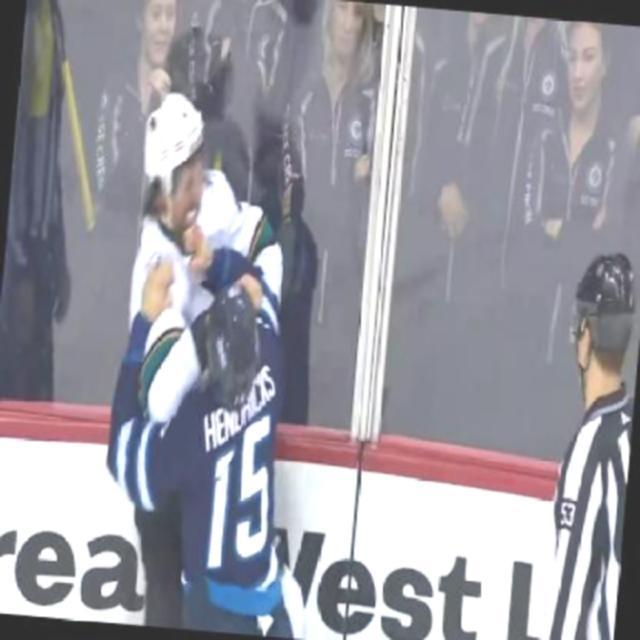fight: (94, 90, 334, 638)
non-fight: (526, 242, 639, 638), (508, 18, 638, 314)
